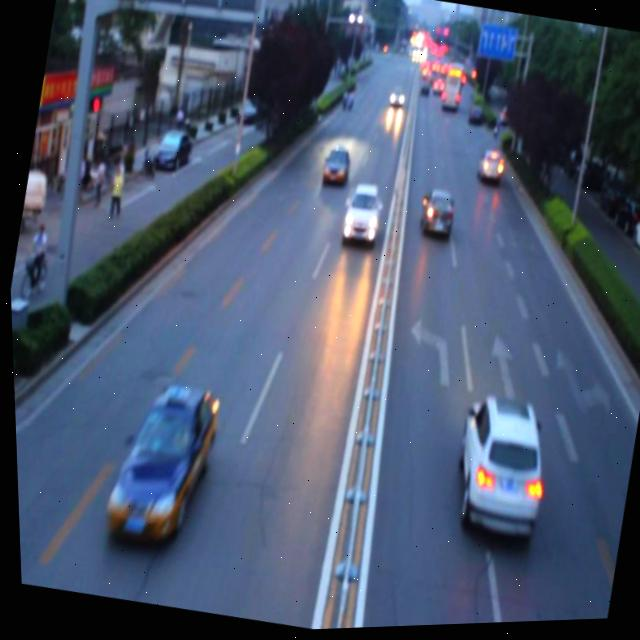car: (93, 374, 225, 558), (439, 390, 554, 550), (336, 181, 387, 251), (415, 186, 458, 245), (317, 143, 353, 193), (473, 148, 506, 190)
